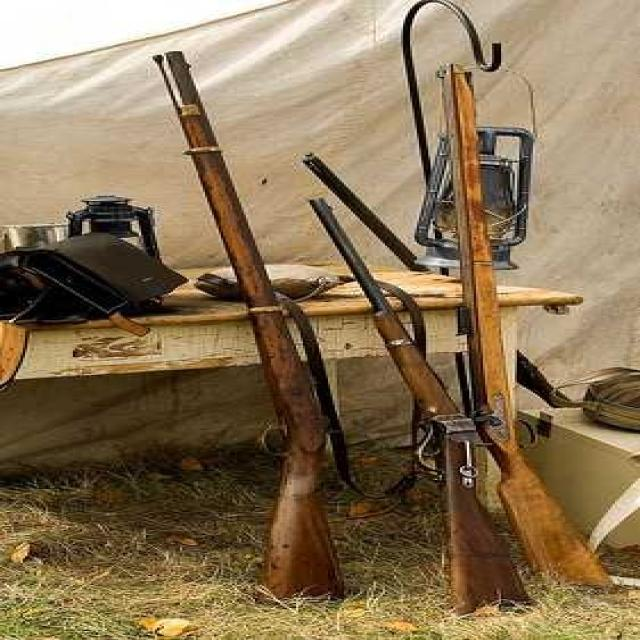heavyweapon: (106, 47, 372, 610), (283, 193, 550, 618), (439, 55, 628, 605)
